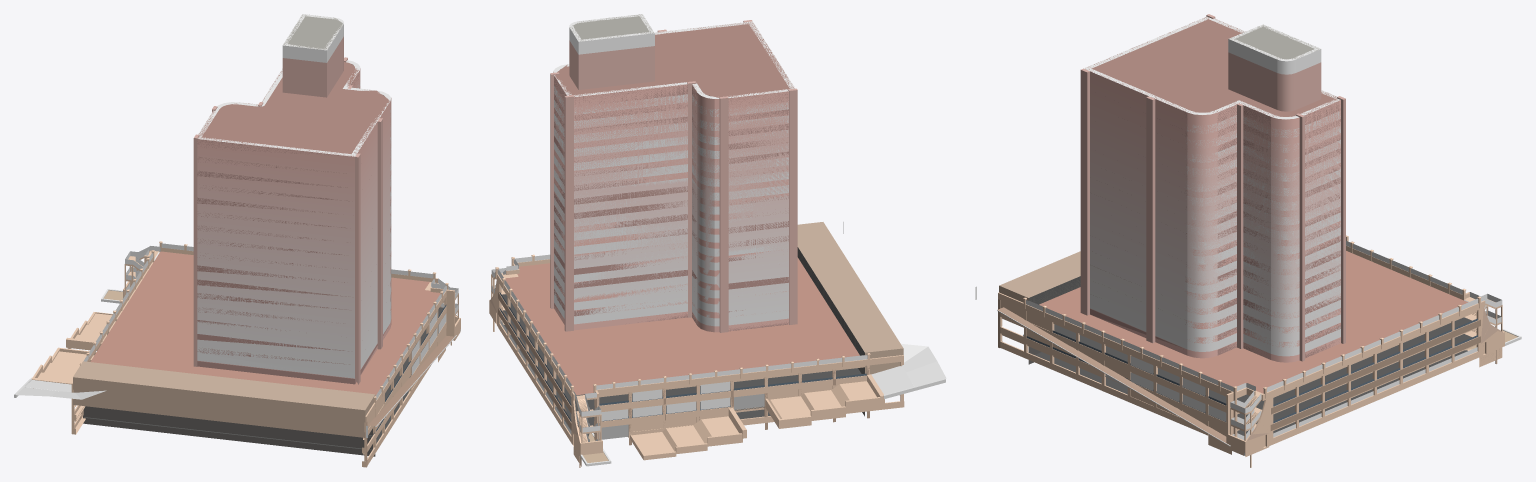
Rendered from condo_parking.dae.
The picture shows the model from 3 angles, left to right: view 1: azimuth 30°, elevation 25°; view 2: azimuth 150°, elevation 25°; view 3: azimuth 270°, elevation 25°; orthographic projection. The views are drawn at different scales.
Parts seen in each view (by area): view 1: Colmesh-1, condo_parking_a700, condo_parking_a1400; view 2: Colmesh-1, condo_parking_a1400, condo_parking_a700; view 3: Colmesh-1, condo_parking_a700, condo_parking_a1400.
Boxes of the visible parts, bbox=[...] form: Colmesh-1: bbox=[14, 14, 460, 467]; condo_parking_a700: bbox=[80, 14, 457, 467]; condo_parking_a1400: bbox=[84, 84, 445, 396]; Colmesh-1: bbox=[489, 14, 946, 467]; condo_parking_a1400: bbox=[498, 72, 865, 442]; condo_parking_a700: bbox=[490, 14, 869, 462]; Colmesh-1: bbox=[975, 14, 1521, 467]; condo_parking_a700: bbox=[998, 17, 1502, 440]; condo_parking_a1400: bbox=[1027, 111, 1477, 424].
Bounding box in the file's own units: 120 × 119 × 86.21.
